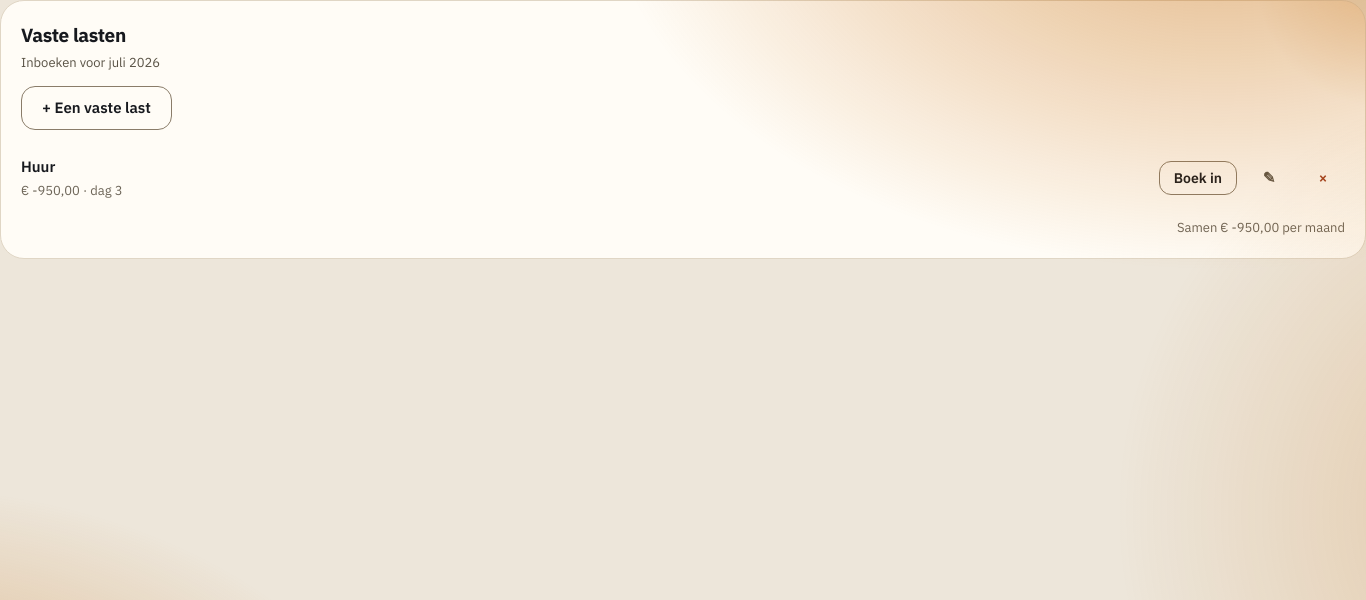
Test: TerugkerendeSectie — het contractformulier › kan ook in dagen, voor een contract dat het zo zegt
Click the button "+ Een vaste last" at [96, 108], box [21, 86, 172, 130]
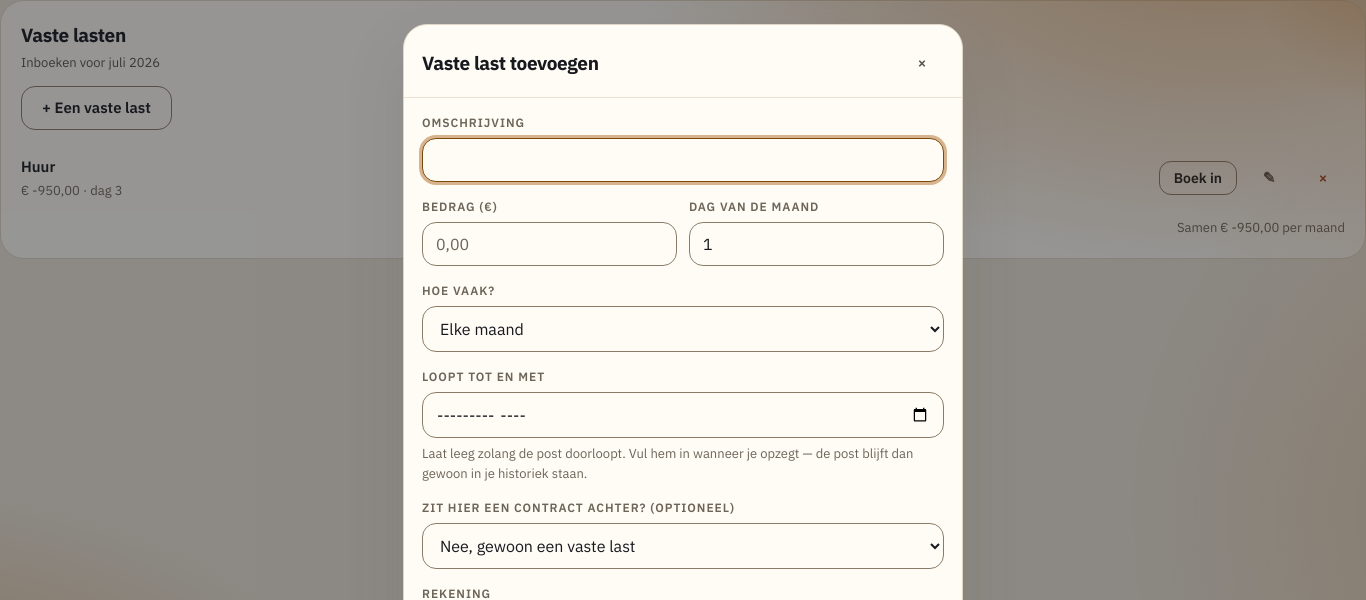
Select "Energie (elektriciteit of gas)" in the dropdown labelled "Zit hier een contract achter? (optioneel)" at [683, 546], box [422, 523, 944, 569]
(page scrolled)
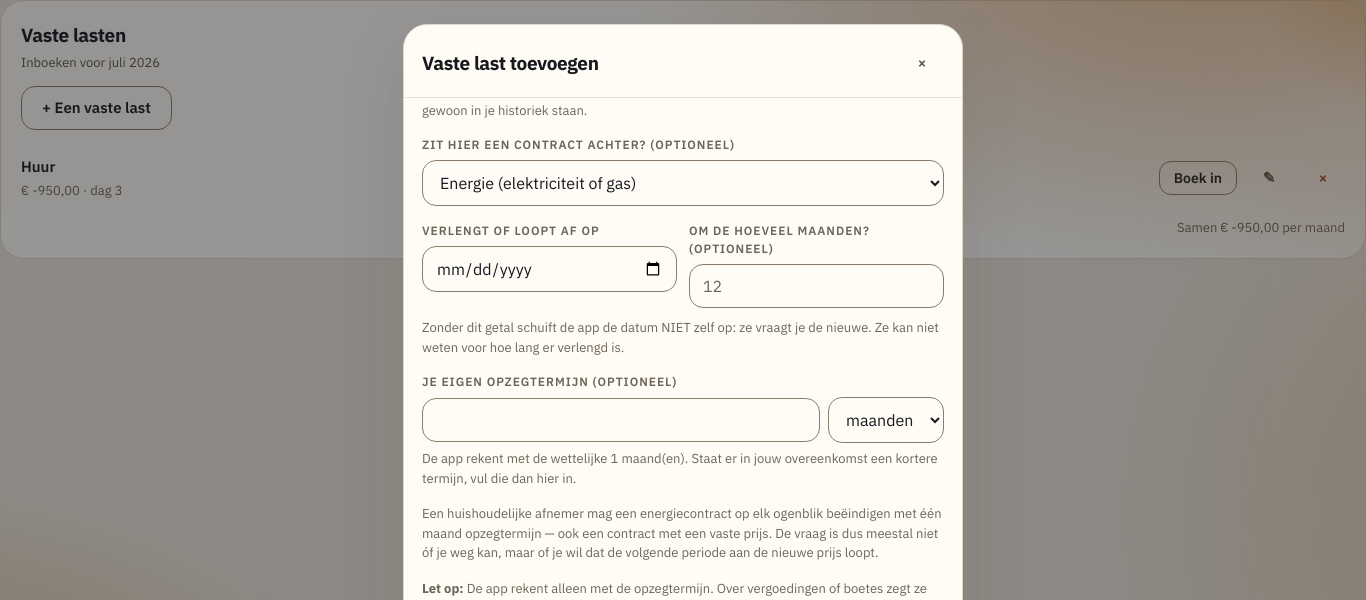
Select "dagen" in the dropdown named "Eenheid van de opzegtermijn" at [886, 420], box [828, 397, 944, 443]
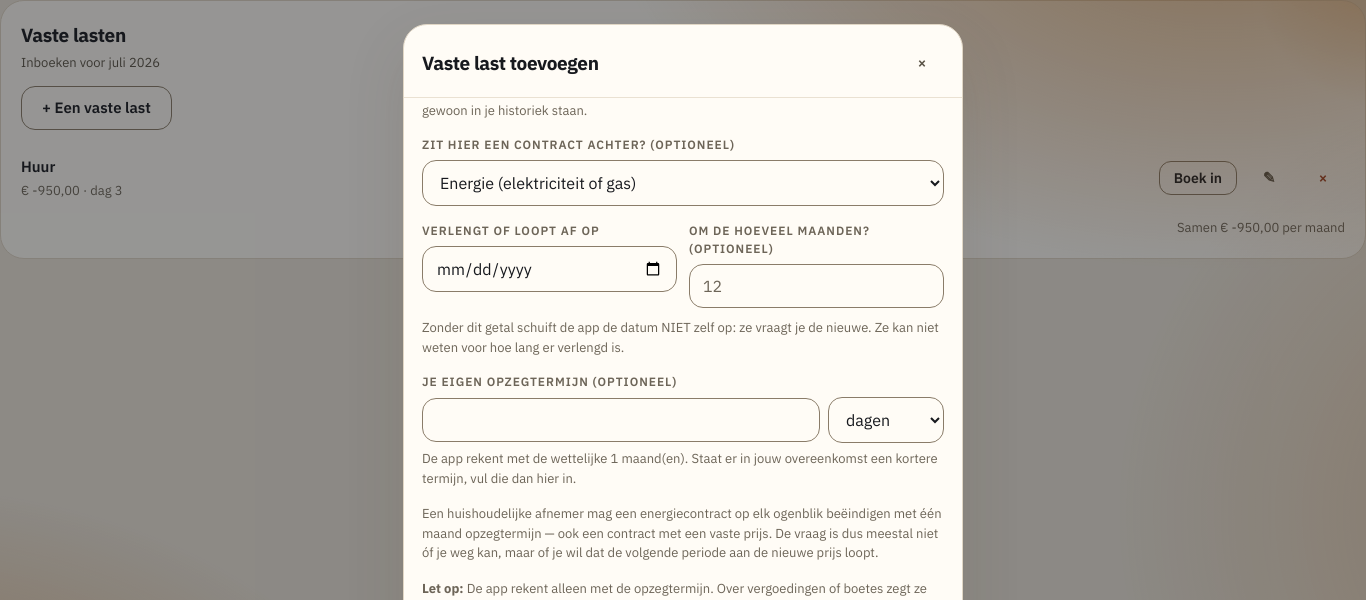
Type "14" into the field labelled "Je eigen opzegtermijn (optioneel)" at [621, 420], box [422, 398, 820, 442]
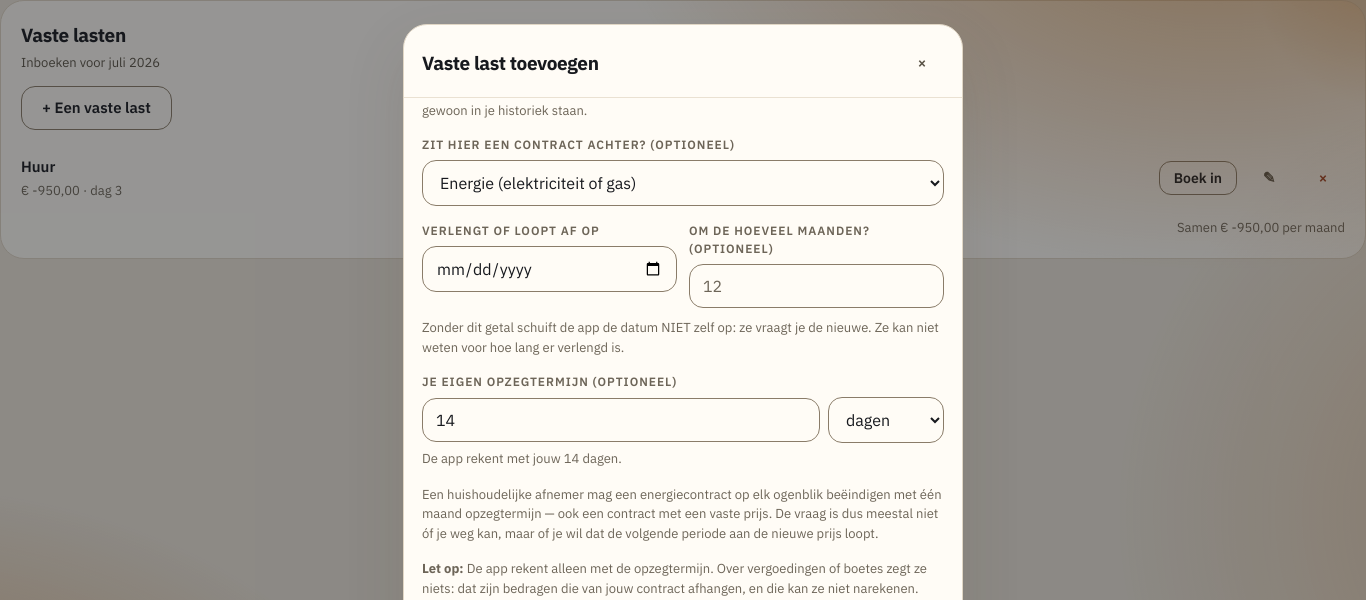
Expected: the text "De app rekent met jouw 14 dagen." is shown, [422, 450, 622, 467]
